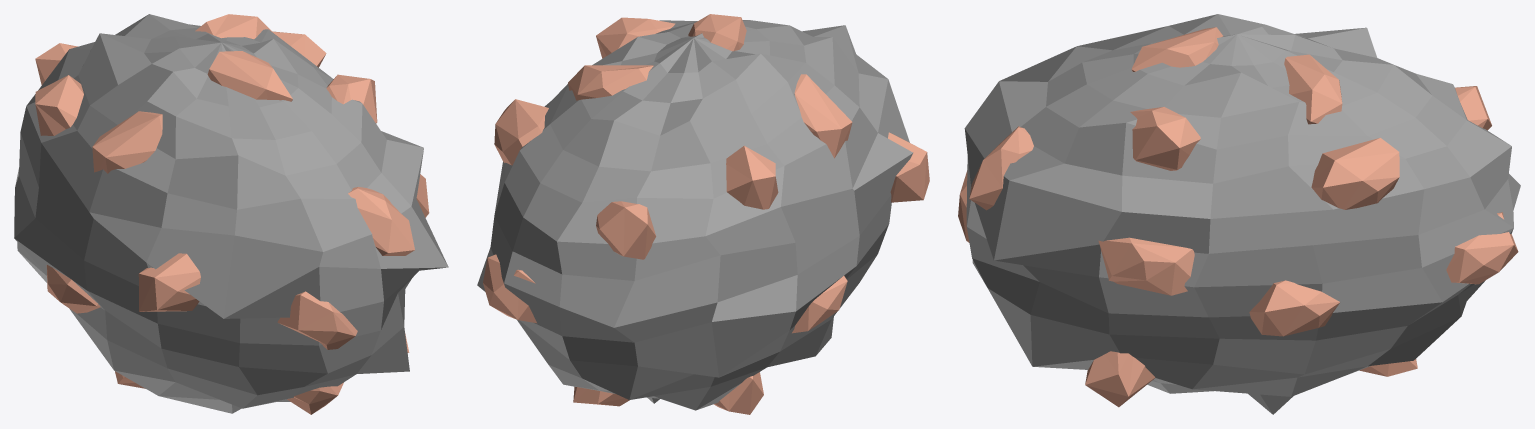
The model's file is metal_ore.fbx.
The picture shows the model from 3 angles, left to right: view 1: azimuth 30°, elevation 25°; view 2: azimuth 150°, elevation 25°; view 3: azimuth 270°, elevation 25°; orthographic projection. The views are drawn at different scales.
Parts seen in each view (by area): view 1: metal_ore; view 2: metal_ore; view 3: metal_ore.
Part boxes in pixels (x1,y1,x2,y2): metal_ore: (14, 14, 448, 414); metal_ore: (477, 14, 929, 414); metal_ore: (958, 14, 1520, 414).
Size of the model in its own units: 142 by 148 by 204.
